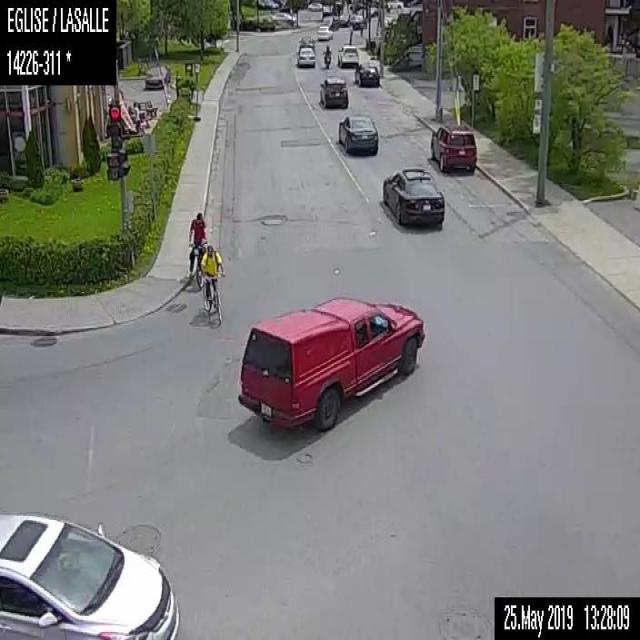cyclist: (196, 242, 225, 324), (186, 209, 208, 288)
vehicle: (237, 295, 425, 435), (0, 508, 180, 639), (381, 166, 445, 226), (429, 122, 478, 174), (337, 113, 379, 151), (318, 75, 348, 108), (353, 61, 381, 87), (142, 63, 170, 88), (336, 42, 358, 68), (269, 8, 295, 28), (296, 41, 316, 67), (316, 23, 334, 40), (324, 44, 331, 68)
